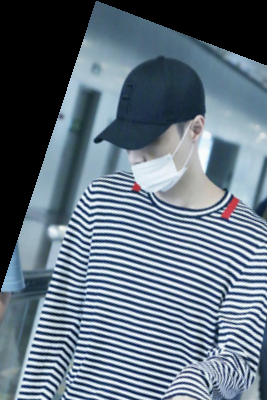mask_weared_incorrect: (94, 45, 210, 206)
